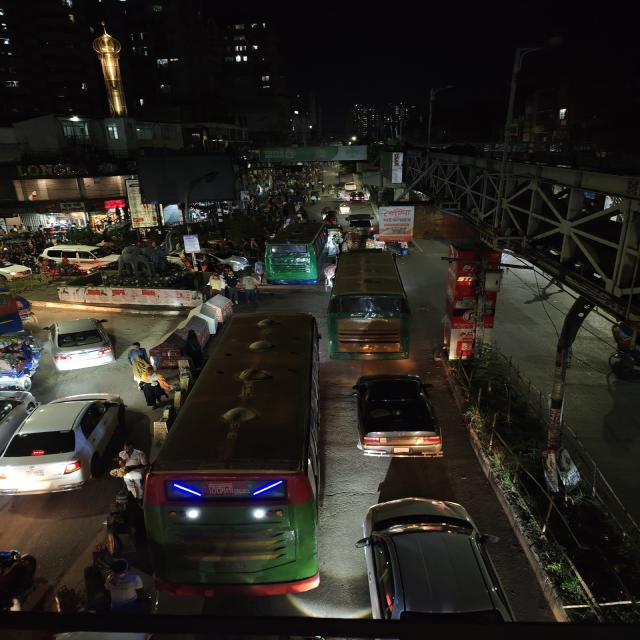bus: (144, 312, 324, 600), (323, 248, 414, 362), (263, 220, 329, 287)
car: (354, 493, 510, 621), (0, 389, 131, 496), (348, 370, 446, 459), (43, 316, 118, 374), (47, 246, 113, 272), (346, 213, 376, 237), (348, 190, 369, 204)
pedestrian: (238, 271, 262, 305)
rickshaw: (0, 340, 41, 390), (0, 292, 39, 329)
truck: (376, 200, 422, 248)
